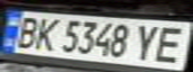3: (75, 18, 96, 55)
4: (93, 19, 115, 56)
5: (57, 17, 81, 54)
8: (109, 20, 136, 60)
B: (9, 14, 45, 50)
E: (148, 24, 193, 64)
K: (30, 15, 63, 52)
Y: (130, 21, 166, 62)
